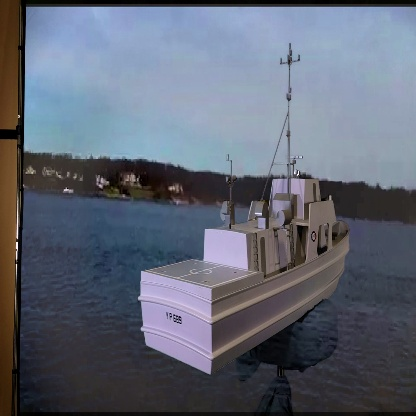YP689: (132, 46, 364, 374)
